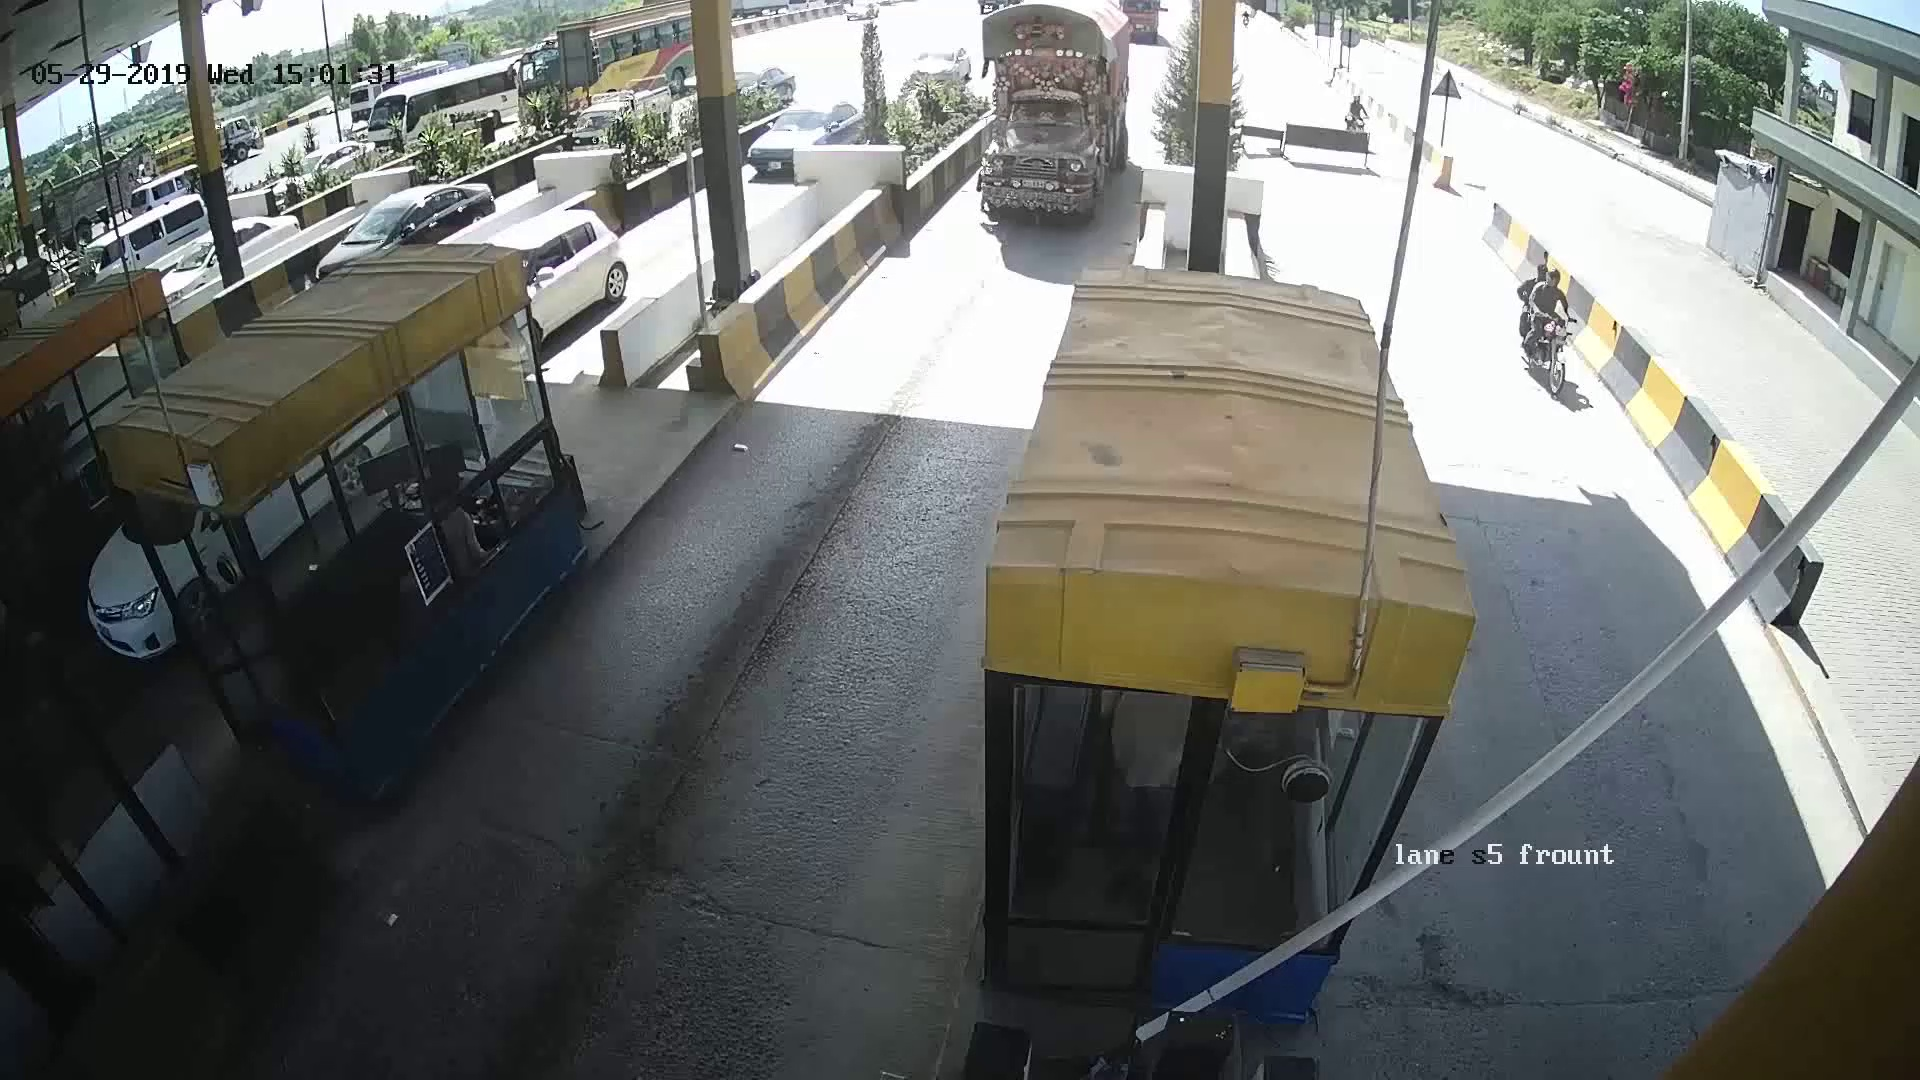truck: (964, 22, 1125, 216)
